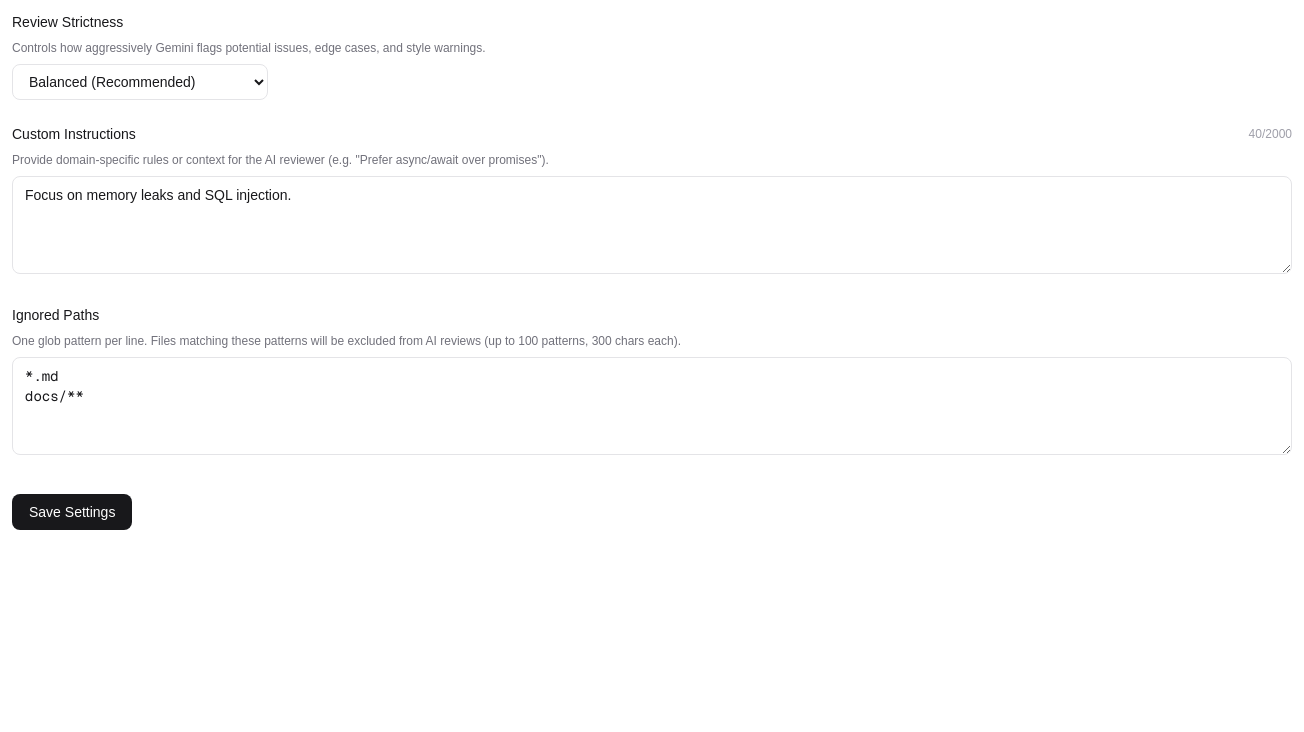
it: SettingsForm › handles 429 rate-limited response cleanly without raw API text
The width and height of the screenshot is (1304, 732).
Click the button "Save Settings".
click(72, 512)  # box [12,494,132,530]
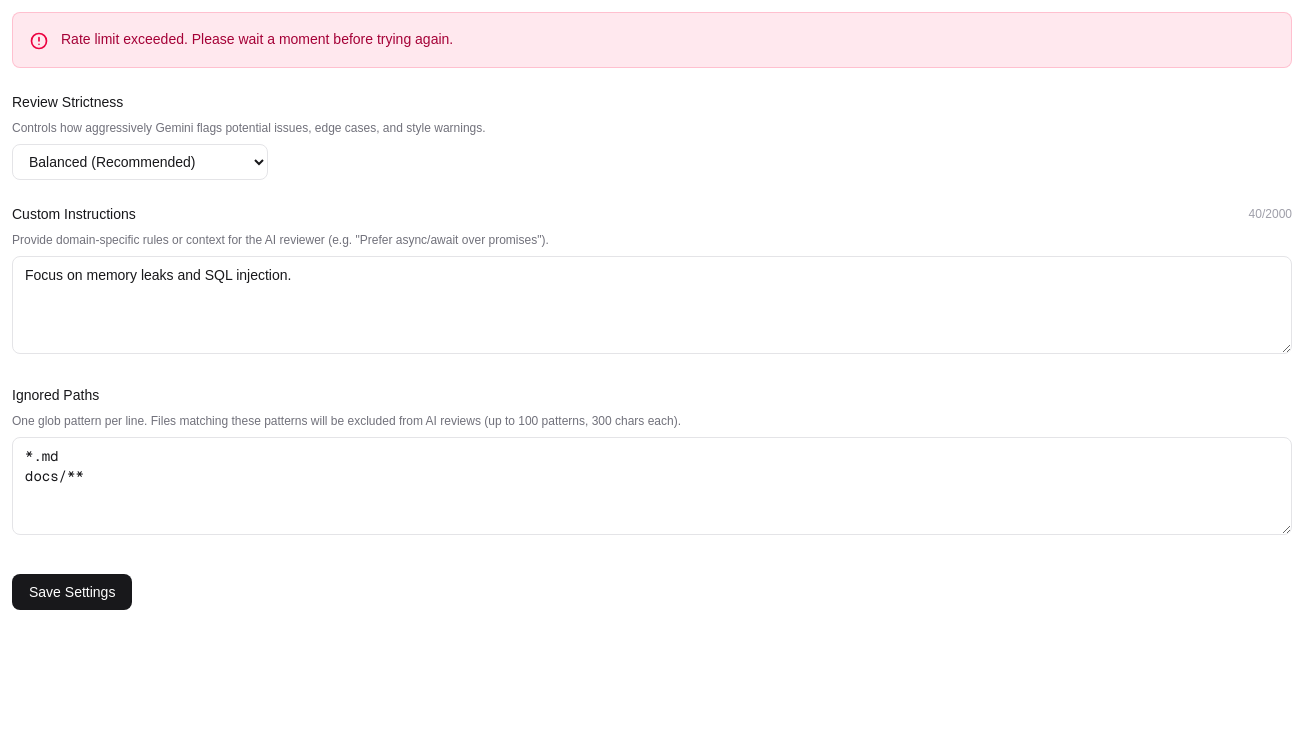
Expected: the text "Rate limit exceeded. Please wait a moment before trying again" is shown, [61,31,453,47]
